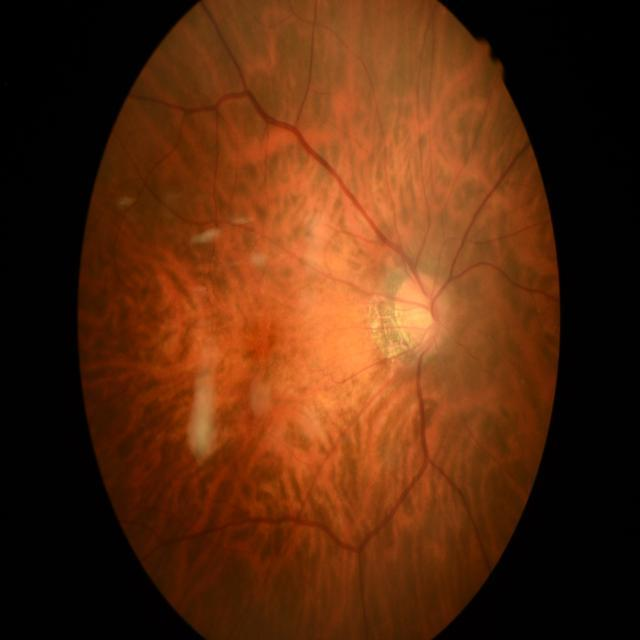cup: (408, 294, 436, 341)
disk: (396, 271, 451, 358)
